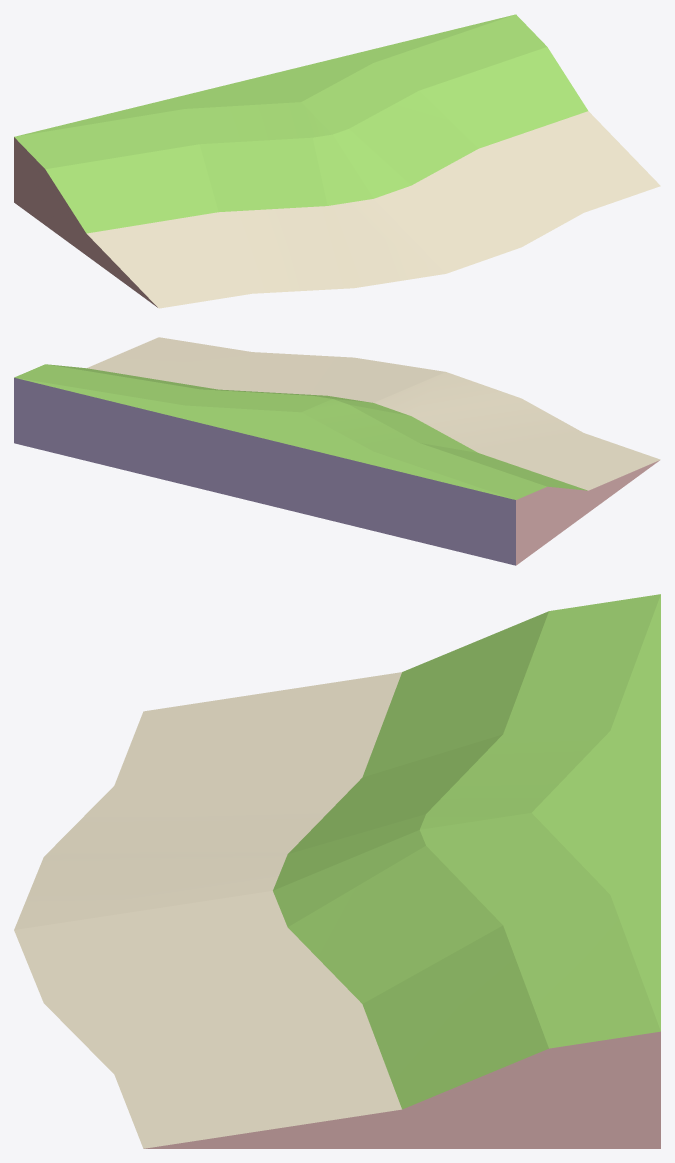
Rendered from Path_Terrain_Deformed_Straight_Convex_2x2.fbx.
3 renders of one model, top to bottom at view 1: azimuth 30°, elevation 25°; view 2: azimuth 150°, elevation 25°; view 3: azimuth 270°, elevation 25°, orthographic. The views are drawn at different scales.
Parts seen in each view (by area): view 1: Path_Terrain_Deformed_Straight_Convex_2x2; view 2: Path_Terrain_Deformed_Straight_Convex_2x2; view 3: Path_Terrain_Deformed_Straight_Convex_2x2.
Boxes of the visible parts, left/top/right/bottom form: Path_Terrain_Deformed_Straight_Convex_2x2: left=14, top=14, right=660, bottom=308; Path_Terrain_Deformed_Straight_Convex_2x2: left=14, top=337, right=660, bottom=565; Path_Terrain_Deformed_Straight_Convex_2x2: left=14, top=594, right=660, bottom=1148.
Bounding box in the file's own units: 200 × 25 × 125.
